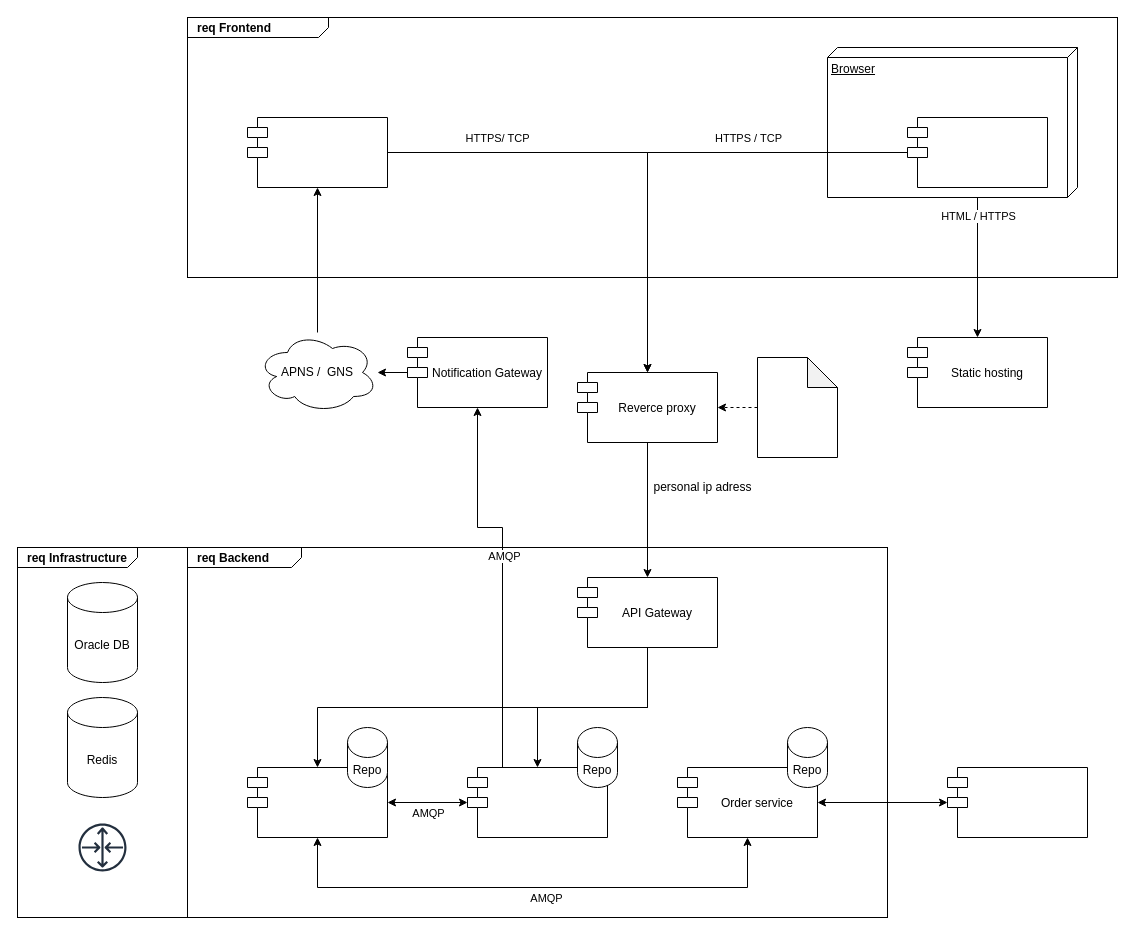
Image size: 1135x935. Some labels were removed from this diagram. The shapes that lost their labels are listed below. From the top down, each one's centre as x and y in pixels, then its label:
At (317,152): "Mobile client".
At (977,152): "Singl page app".
At (797,407): "SSL Termination".
At (317,802): "Market service".
At (537,802): "Recommendation service".
At (1017,802): "Admin service (thymeleaf)".
At (102,847): "Rabbit".
